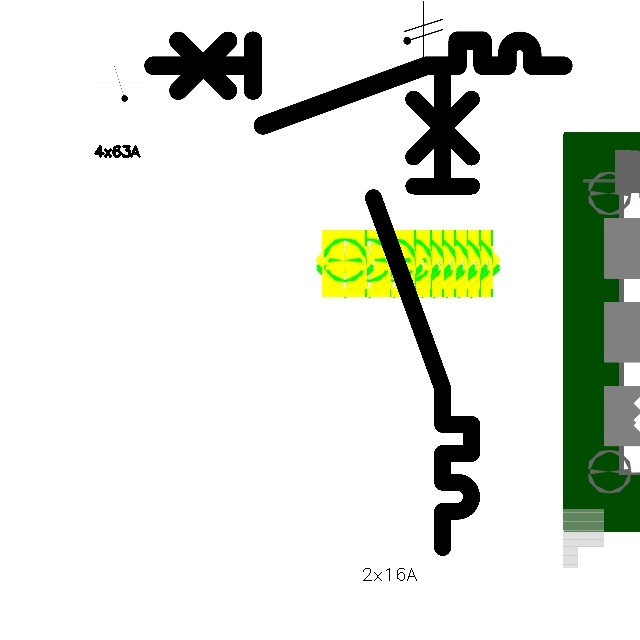interruptor_termomagnetico: (361, 57, 484, 559), (142, 30, 574, 135)
